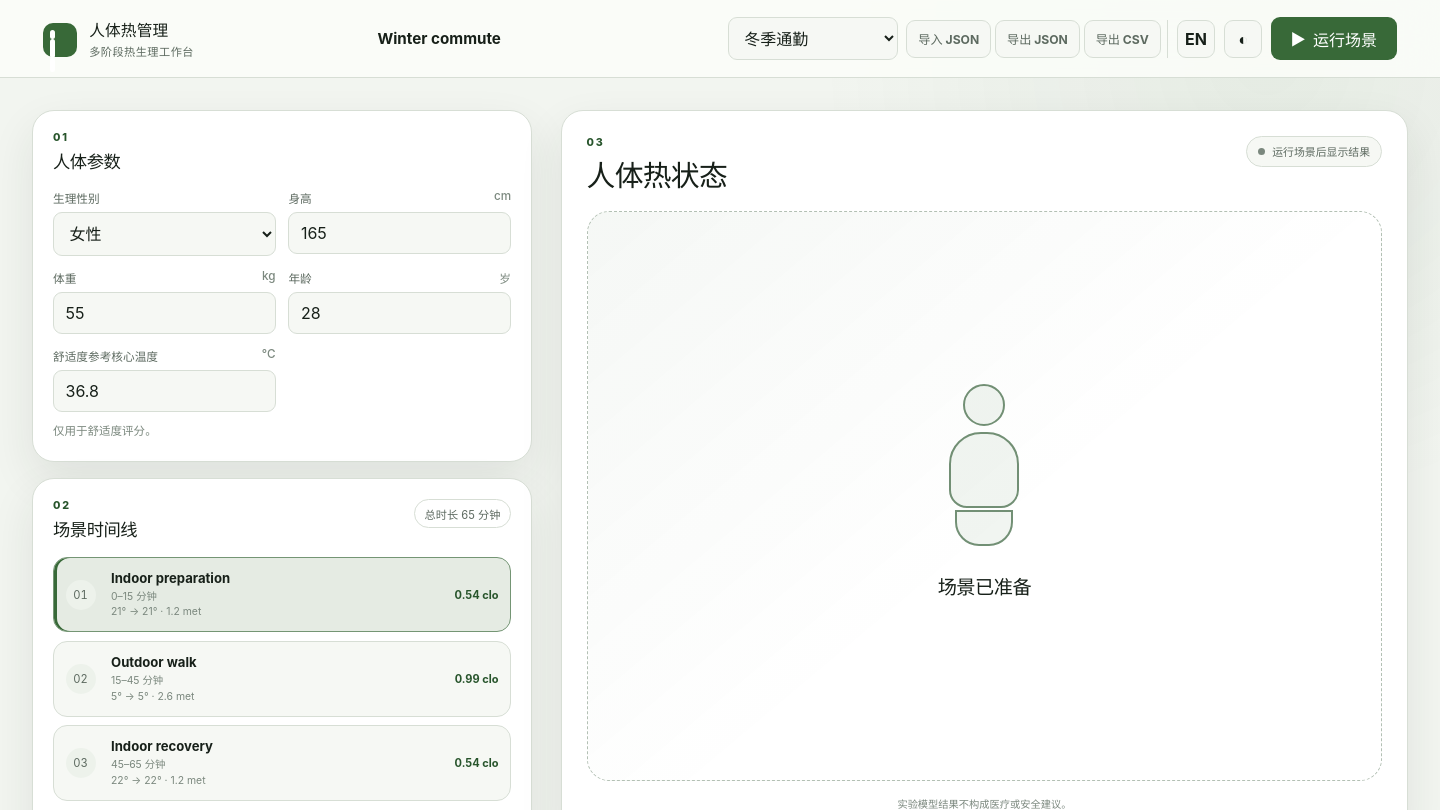
Test case: App › keeps the template selector synchronized with the loaded scenario
Select "运动与恢复" in the dropdown named "载入模板" at (813, 38), box [728,17,898,60]
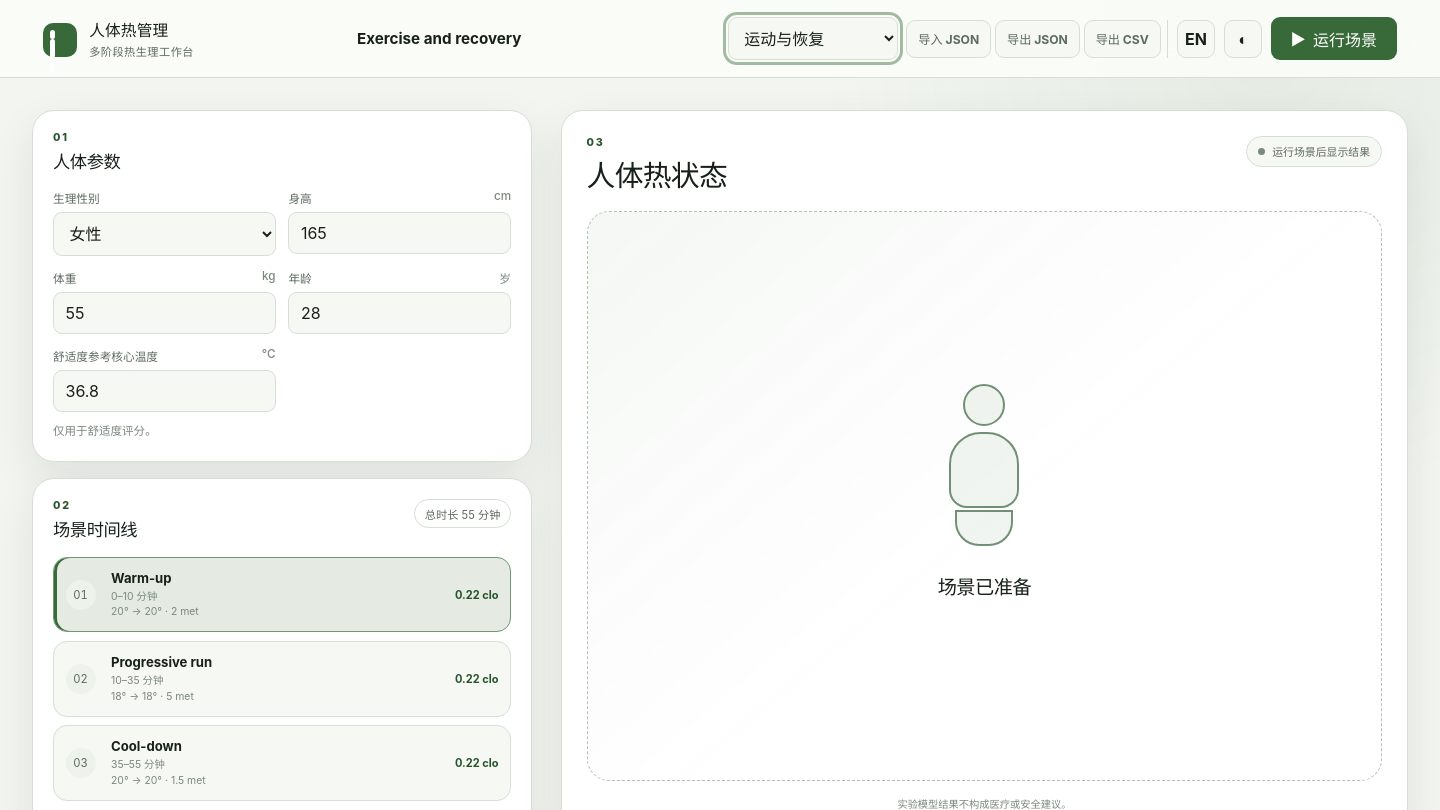
Check: the field named "场景名称" holds "Exercise and recovery", box [279,18,599,60]
Select "单阶段" in the dropdown named "载入模板" at (813, 38), box [728,17,898,60]
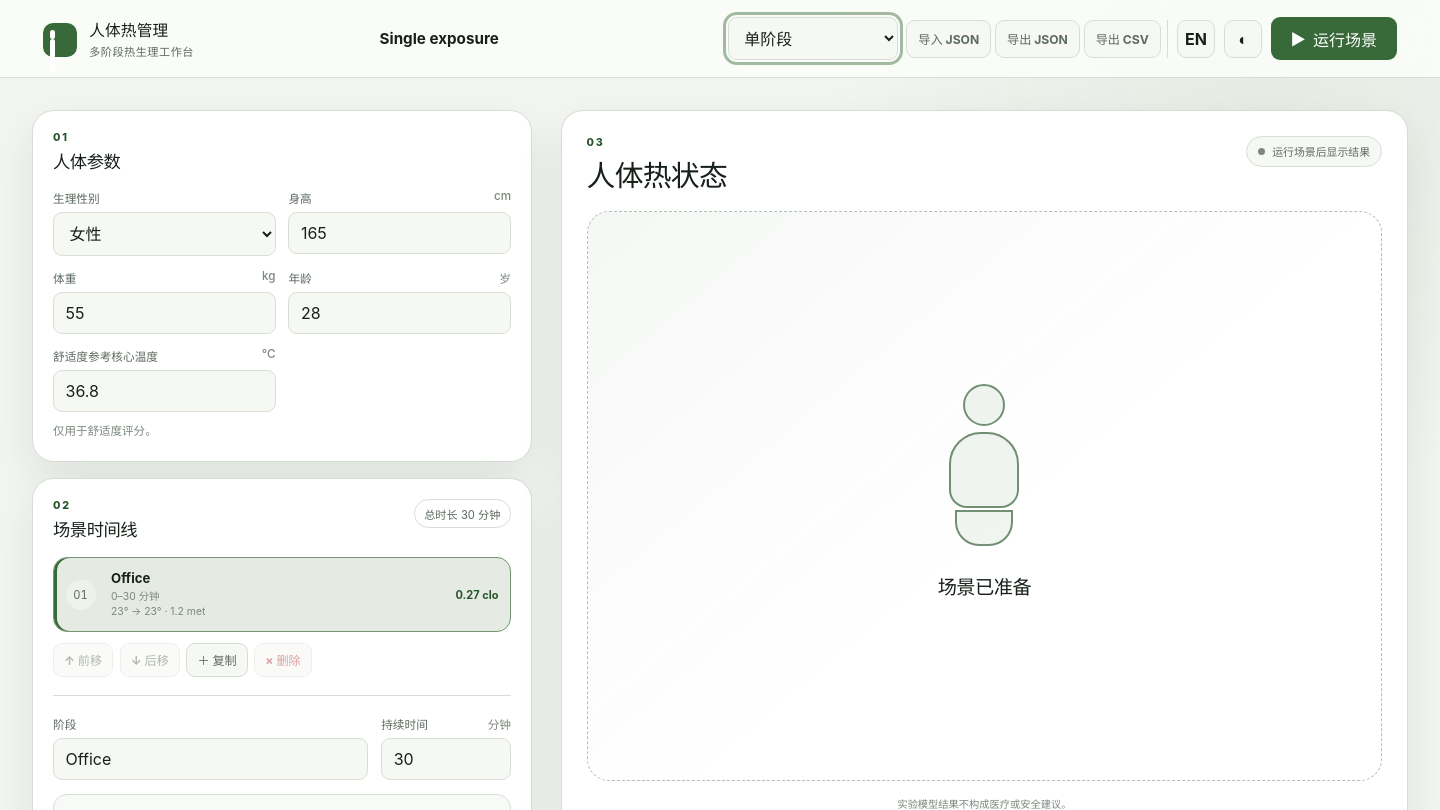
Check: the field named "场景名称" holds "Single exposure"
Type " custom" into the field named "场景名称" at (439, 38), box [279,18,599,60]
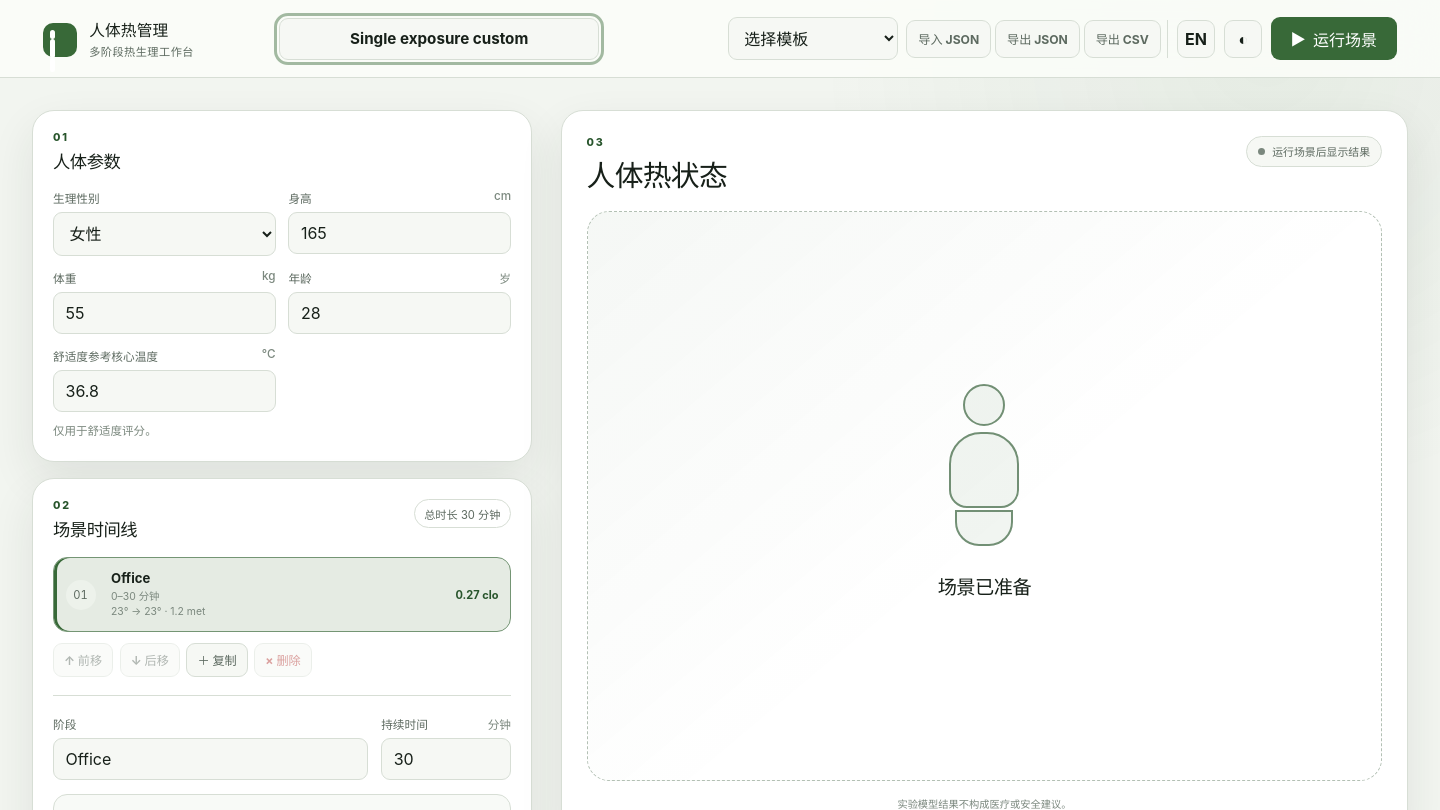
Select "单阶段" in the dropdown named "载入模板" at (813, 38), box [728,17,898,60]
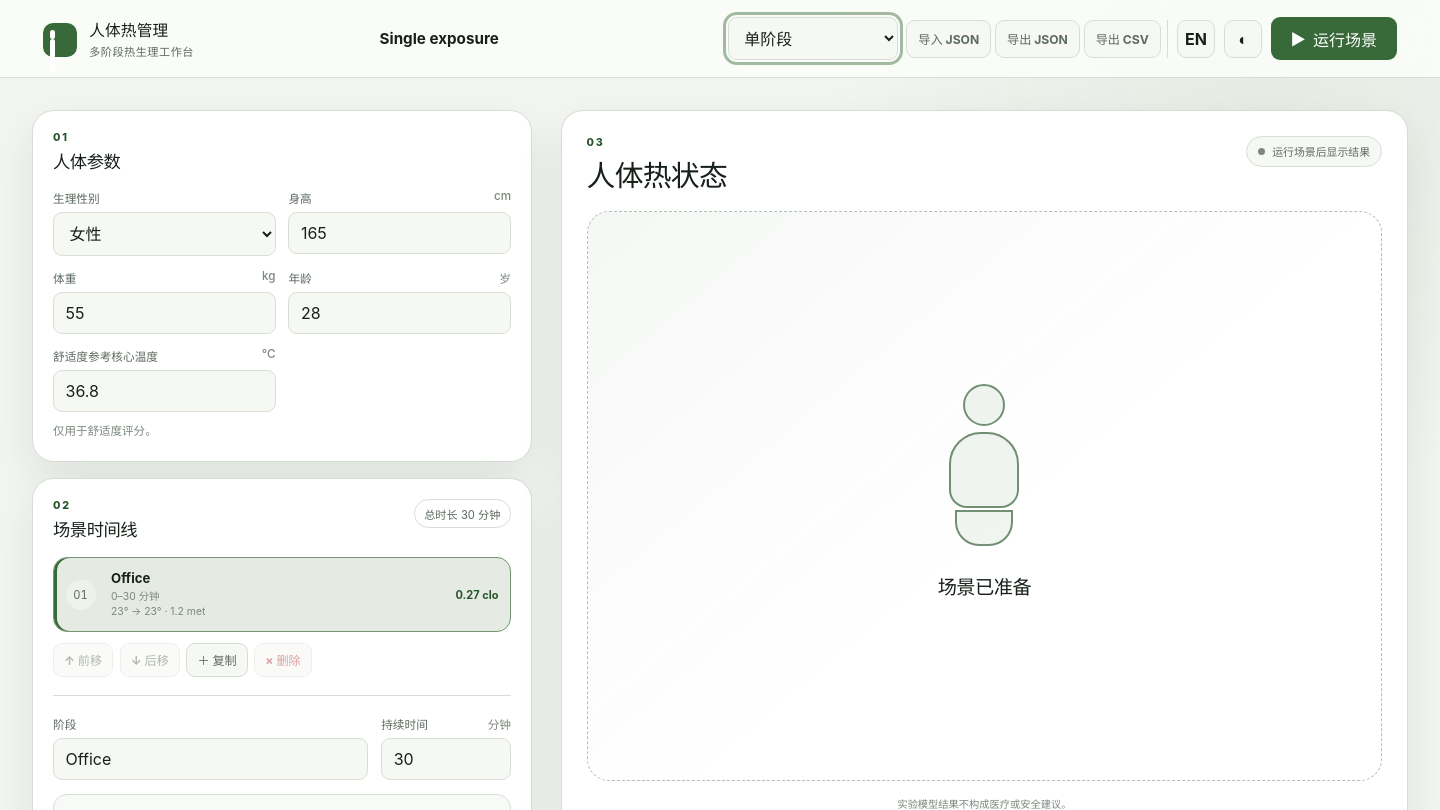
Check: the field named "场景名称" holds "Single exposure", box [279,18,599,60]
